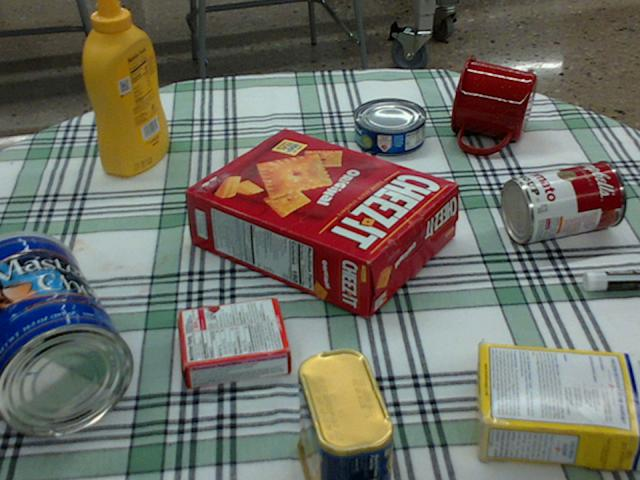cracker_box: (184, 126, 456, 318)
gelatin_box: (176, 298, 292, 385)
large_marker: (583, 269, 639, 289)
master_chef_can: (0, 231, 133, 436)
mug: (450, 55, 535, 153)
mustard_bottle: (83, 0, 168, 176)
potted_meat_can: (295, 346, 392, 479)
sugar_box: (474, 346, 639, 474)
tomato_soup_can: (500, 161, 624, 242)
tuna_fish_can: (353, 98, 426, 155)
